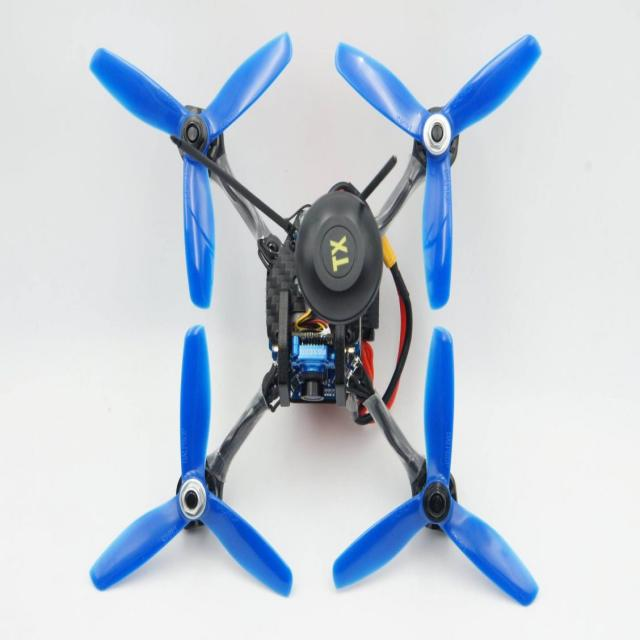drone: (97, 56, 521, 590)
